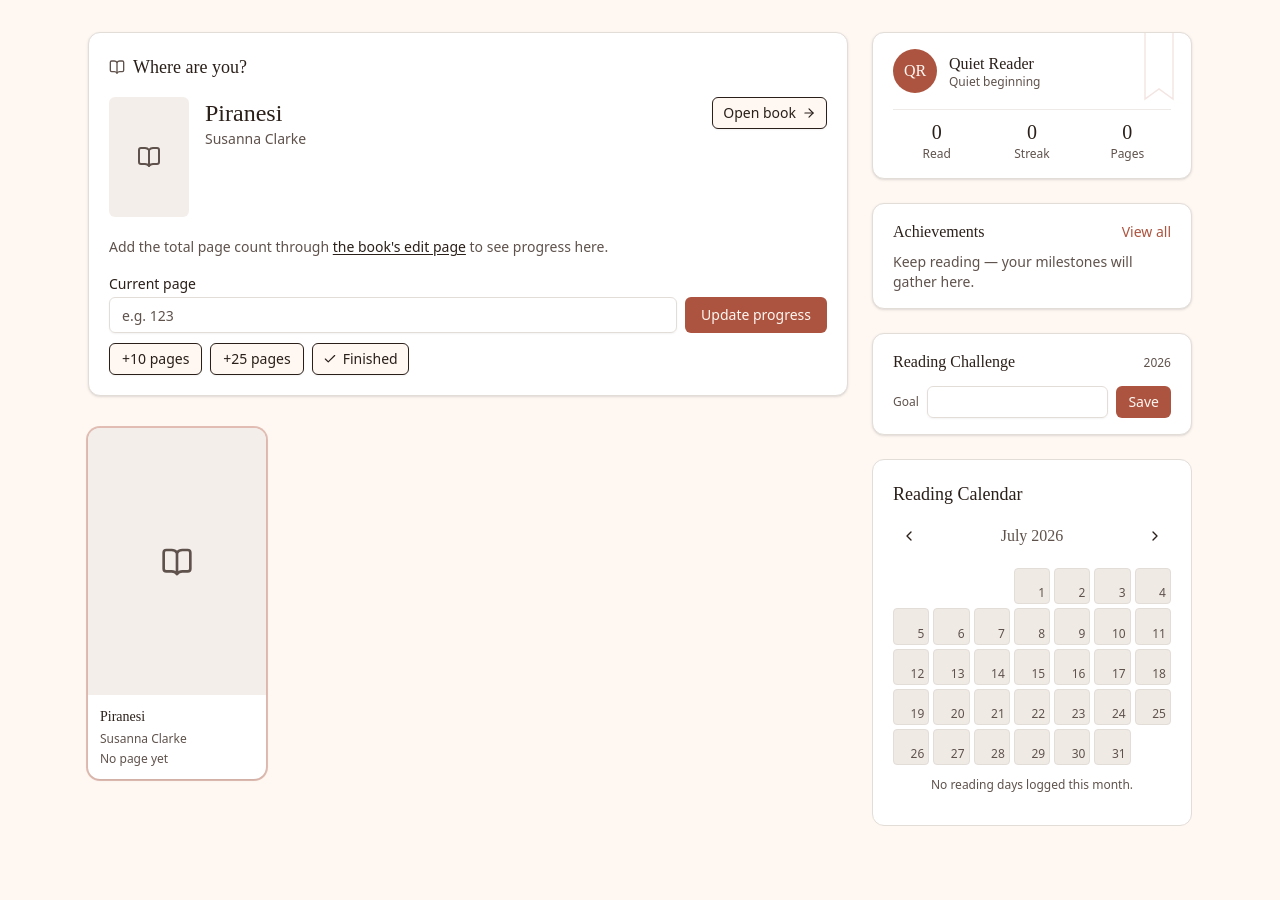
Test: ShelfClient — focused reading home (spec 015) › persists a target through the home-rail save action
The width and height of the screenshot is (1280, 900).
Step 1. Type "18" into the number field with test id "yearly-challenge-input" → point(1018, 402), box [927,386,1108,418]
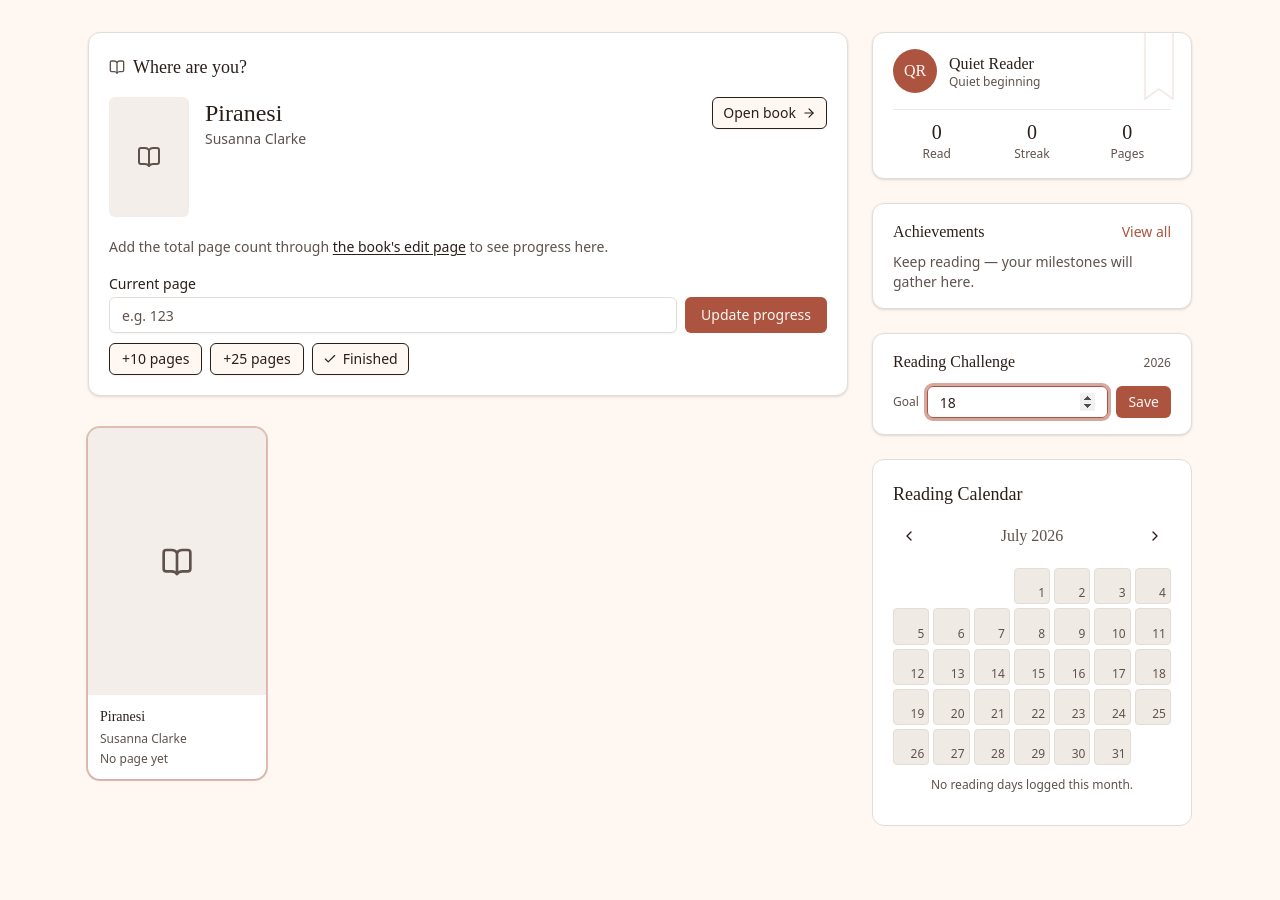
Step 2. Click the button with test id "yearly-challenge-save" → point(1144, 402), box [1116,386,1171,418]
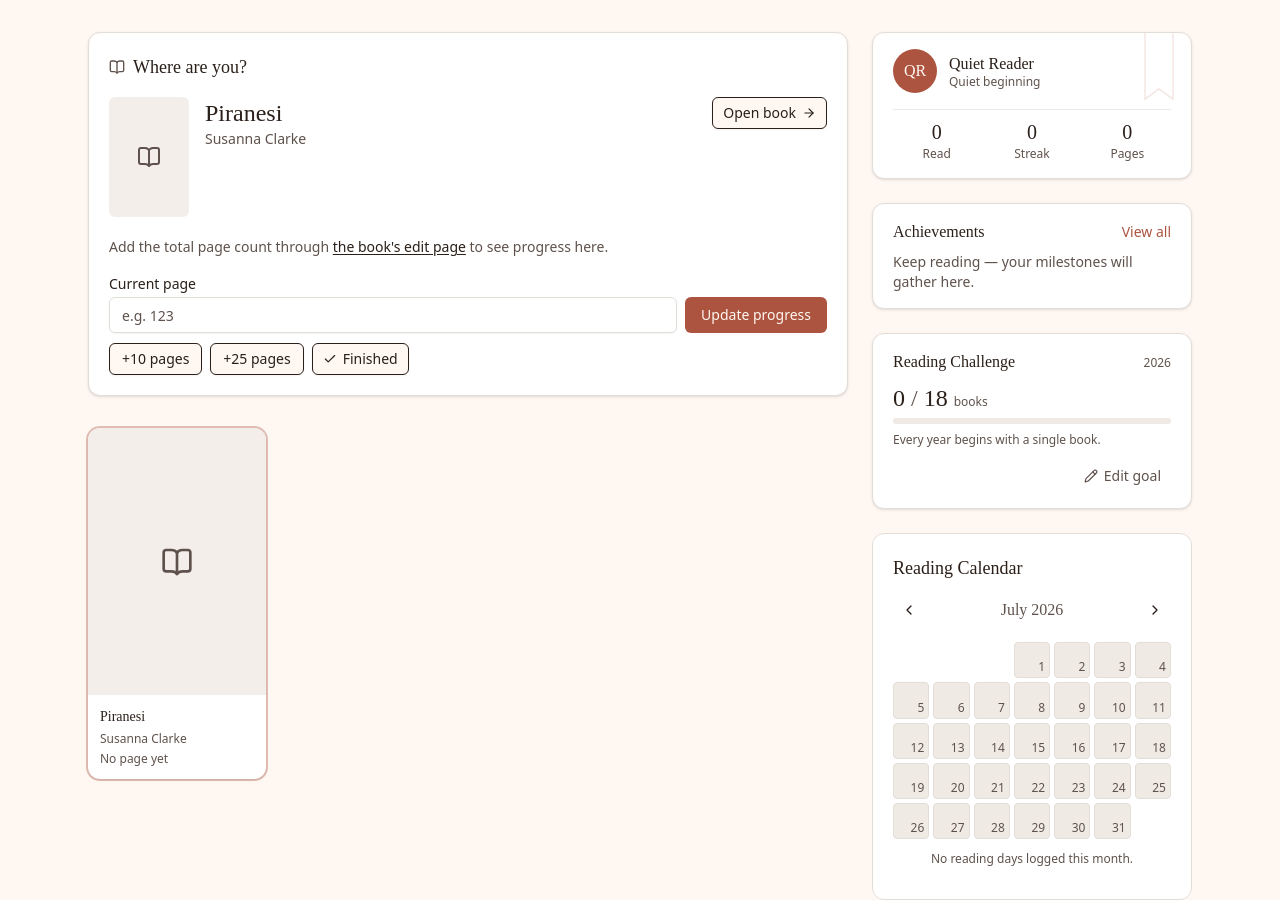
Expected: the element with test id "yearly-challenge-progress" shows "0 / 18", [893,385,988,411]
